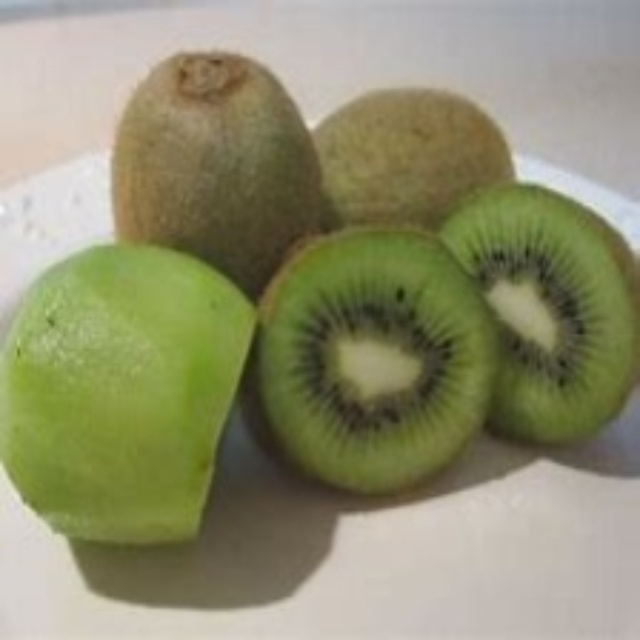kiwi: (267, 202, 639, 480), (0, 252, 251, 566), (103, 54, 328, 291), (302, 78, 517, 239)
